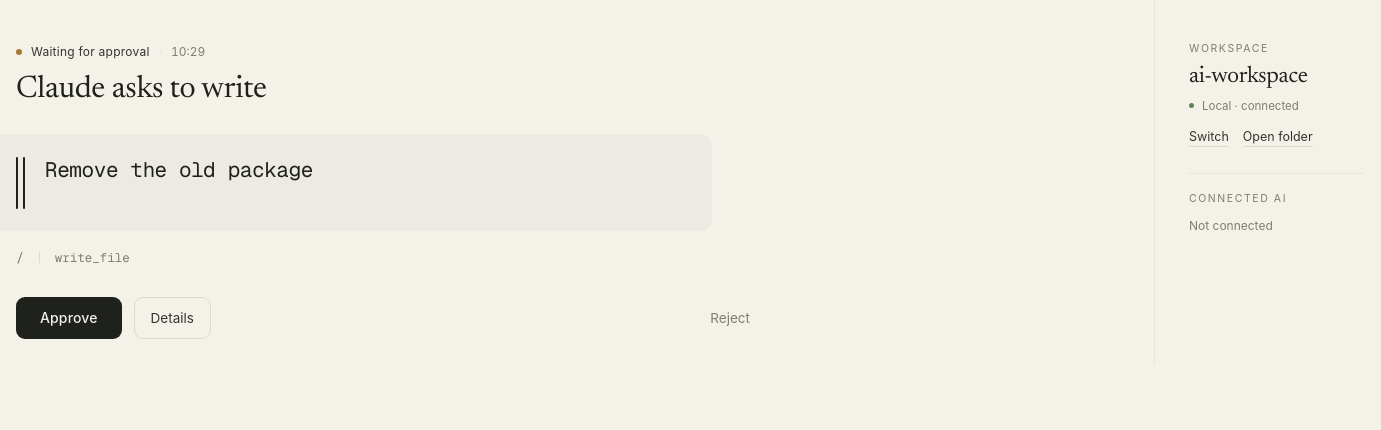
it: a recursive delete is asked twice › says when the undo will be empty
Click the button "Approve". click: (69, 318)
box: [16,297,122,339]
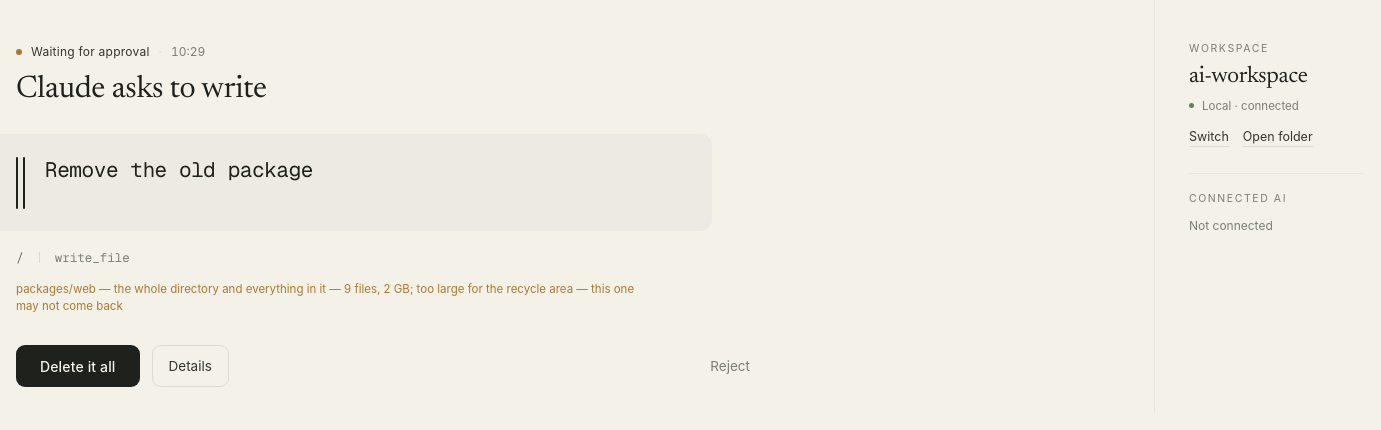
Check: the text "may not come back" is shown, box [16,282,634,313]
